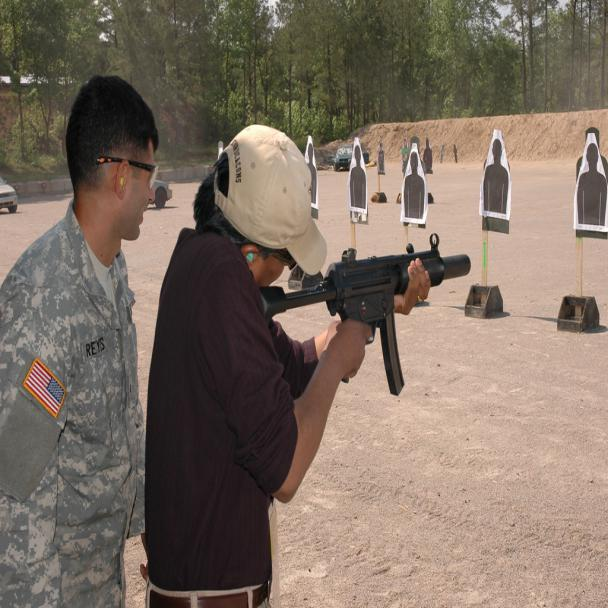Gun: (256, 231, 483, 361)
Hand: (313, 311, 378, 409), (392, 253, 434, 318)
